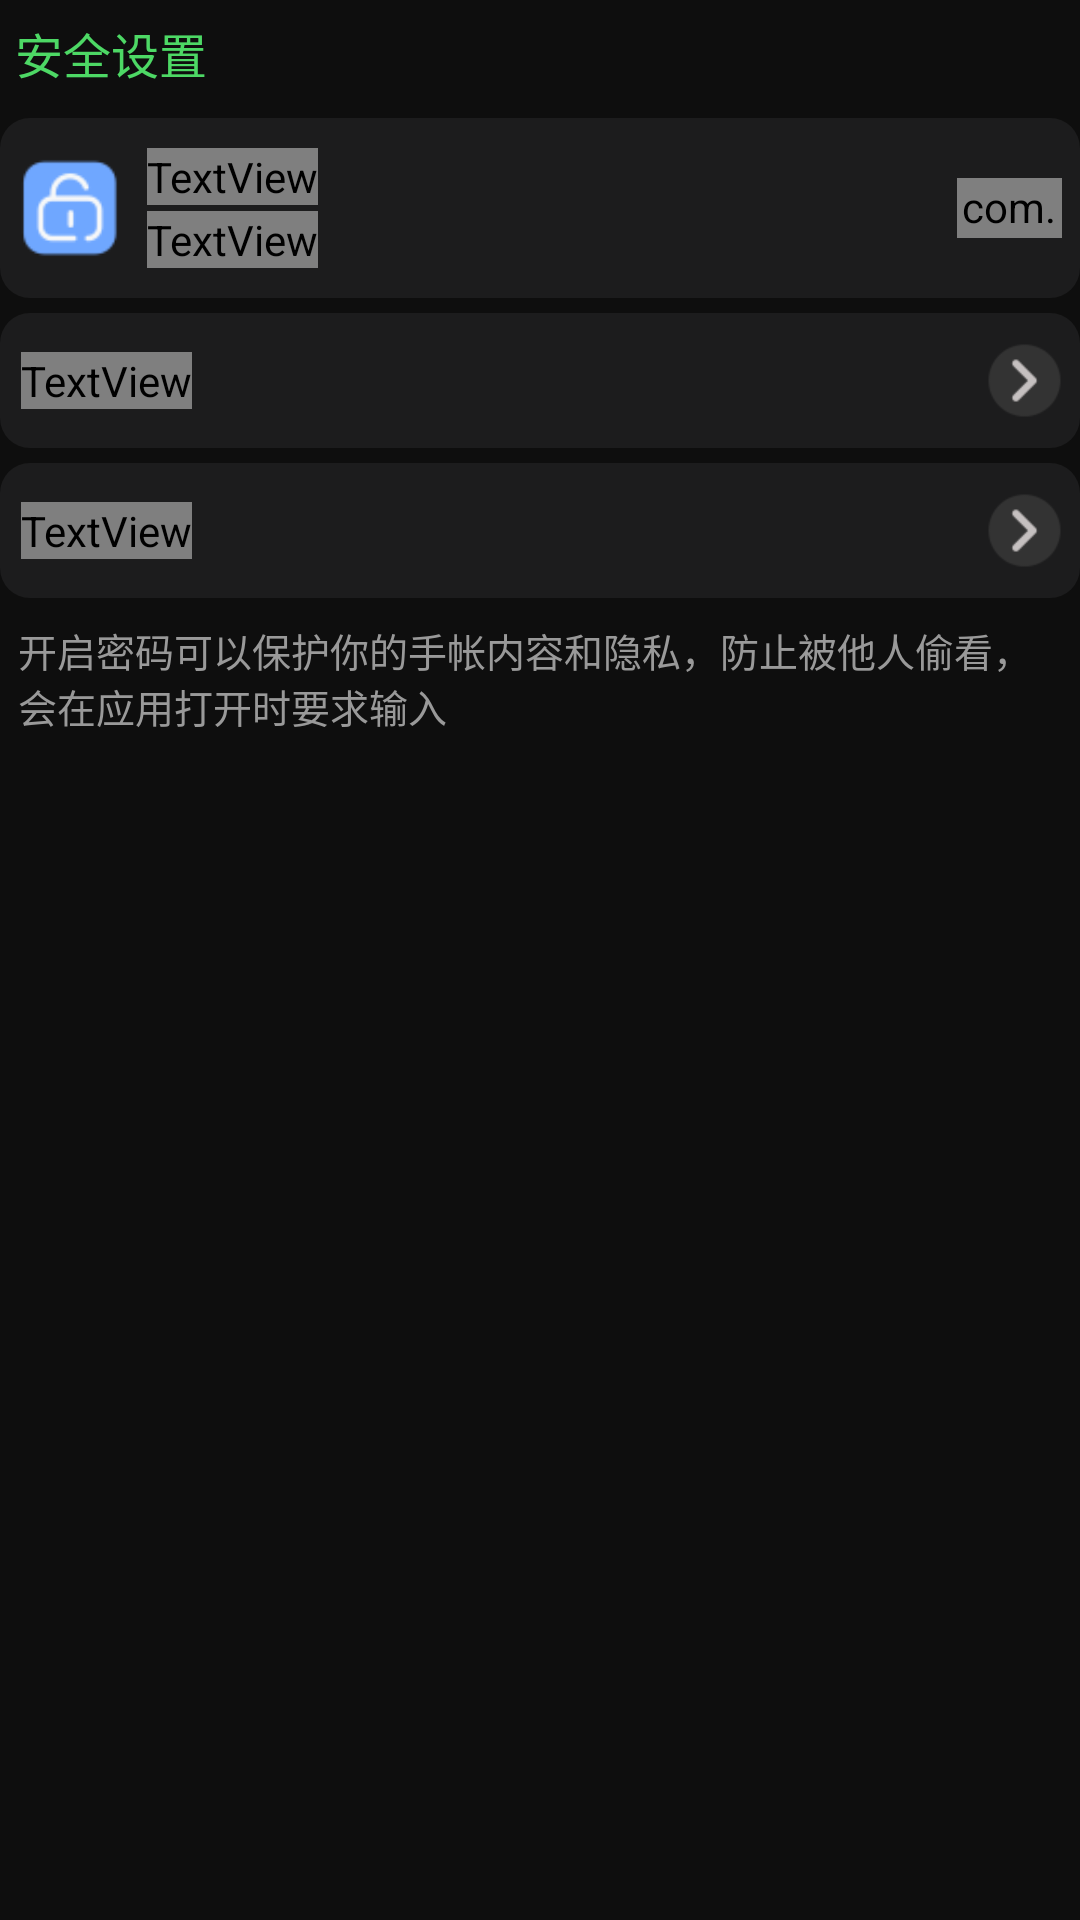

Where icons sit on this 1080*1920 app screen, as bbox(x1, y1, x2, y2):
suo: bbox(23, 160, 117, 256)
